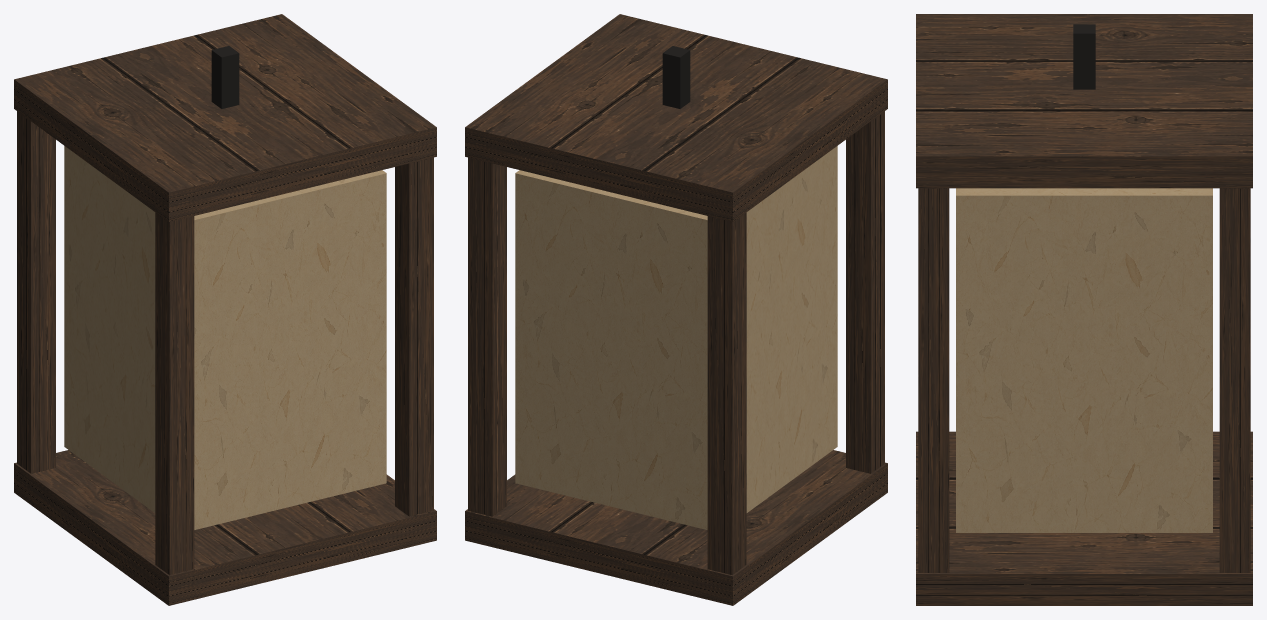
Rendered from square_paper_lantern.glb.
The picture shows the model from 3 angles, left to right: view 1: azimuth 30°, elevation 25°; view 2: azimuth 150°, elevation 25°; view 3: azimuth 270°, elevation 25°; orthographic projection. The views are drawn at different scales.
Parts seen in each view (by area): view 1: CandidateMesh; view 2: CandidateMesh; view 3: CandidateMesh.
Boxes of the visible parts, x1,y1,x2,y2 form: CandidateMesh: (14, 14, 436, 605); CandidateMesh: (465, 14, 887, 605); CandidateMesh: (916, 14, 1252, 605).
Bounding box in the file's own units: 0.38 × 0.63 × 0.38.
3 materials, 2 textured.
